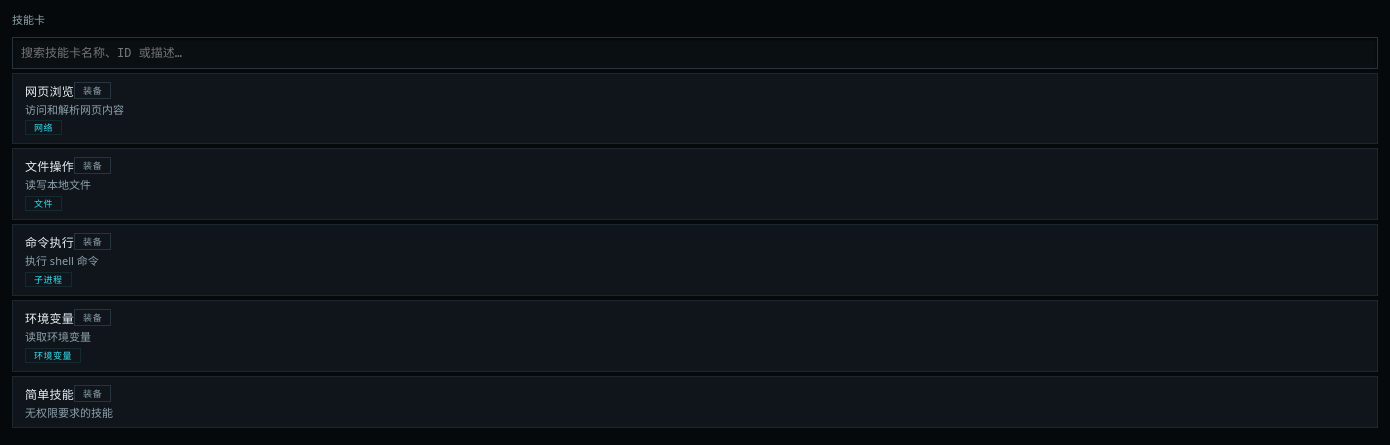
it: SkillPicker › 搜索 › 按名称过滤技能卡
Expected: the text "网页浏览" is shown, [25,82,74,98]
Step 1. Type "网页" into the field with placeholder "搜索技能卡名称、ID 或描述…" → (695, 52), box [12,36,1378,68]
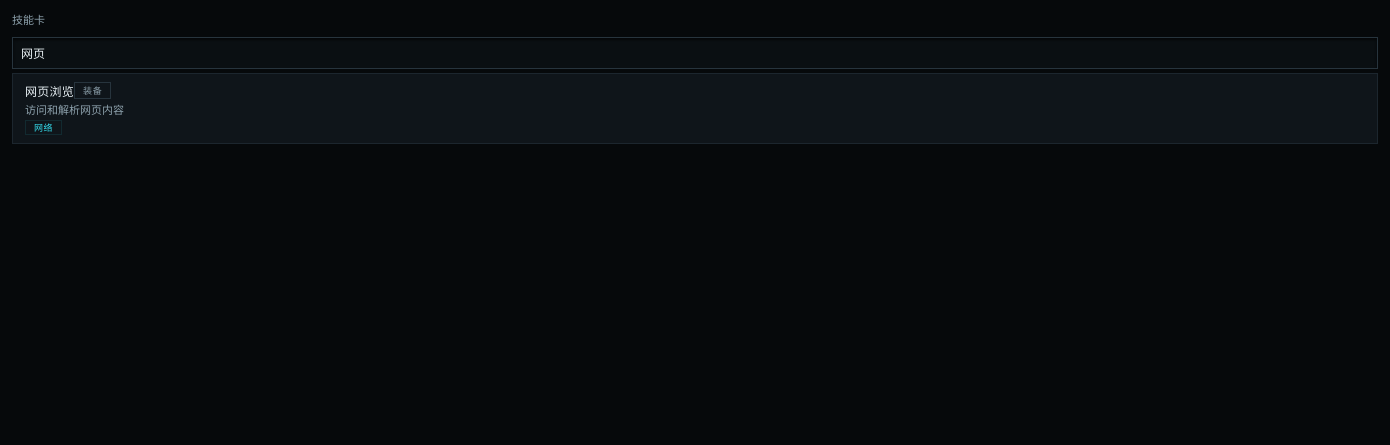
Expected: the text "网页浏览" is shown, [25,82,74,98]
Result: the button "文件操作" is gone
Result: the button "命令执行" is gone
